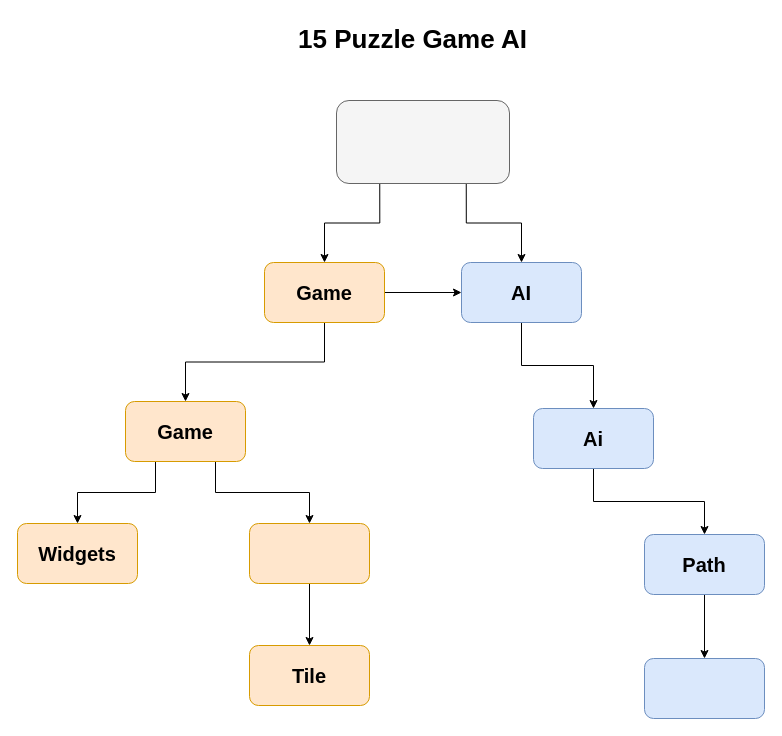
Some shapes in this 782 by 736 pixel diagram are drawn without their labels. The shapes that lost their labels are listed below. From the top down, each one's centre as x and y in pixels, then its label:
At point (423, 142): "Main".
At point (309, 553): "Board".
At point (704, 688): "Option".
